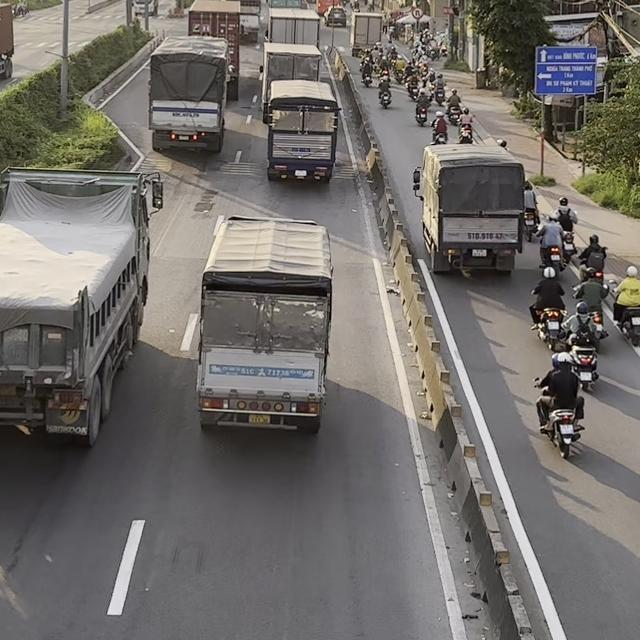motorcycle: (532, 377, 585, 459), (560, 310, 599, 391), (609, 279, 640, 346), (529, 304, 568, 351), (560, 210, 578, 263), (539, 244, 566, 275), (522, 206, 540, 242), (413, 96, 431, 126), (430, 121, 447, 145), (377, 81, 392, 108), (359, 63, 373, 87), (446, 103, 461, 124), (405, 80, 419, 100), (434, 84, 446, 106)
truck: (0, 164, 163, 447), (194, 214, 334, 434), (412, 142, 525, 276), (147, 35, 236, 153), (265, 79, 341, 183), (187, 0, 245, 101), (259, 42, 322, 123), (265, 7, 320, 47), (349, 11, 384, 57)
